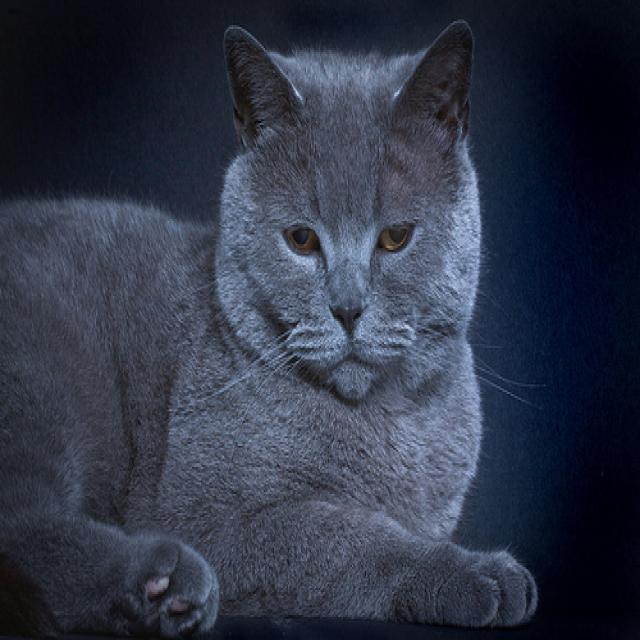British_Shorthair: (220, 17, 478, 398)
